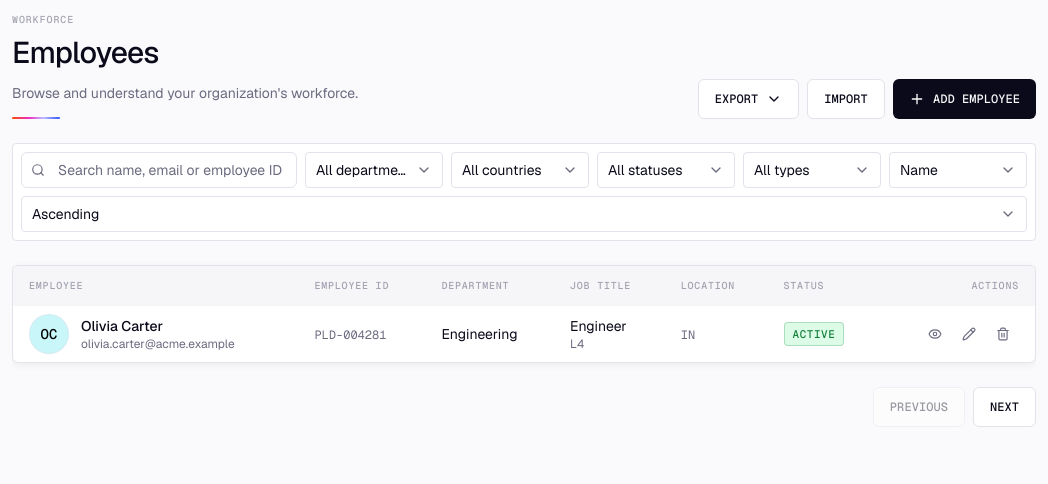
it: employee directory › resets pagination when search changes from a later page
The width and height of the screenshot is (1048, 484).
Expected: the text "Olivia Carter" is shown, x1=81 y1=317 x2=163 y2=335
Click the button "Next".
click(1004, 407)  # box x1=973 y1=387 x2=1036 y2=427
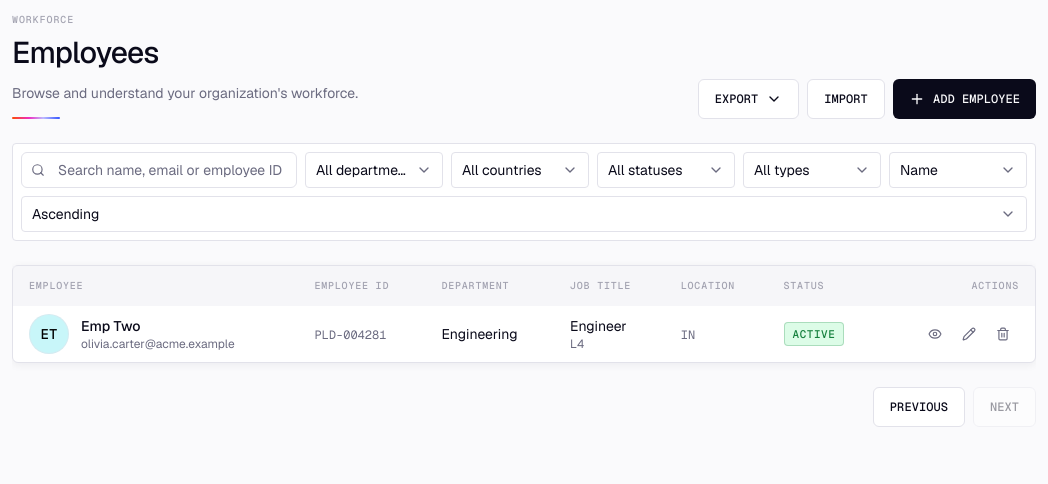
Now the text "Emp Two" is shown, box x1=81 y1=317 x2=140 y2=335
Now the button "Previous" is enabled, box x1=873 y1=387 x2=965 y2=427
Type "olivia" into the field with placeholder "Search name, email or employee ID".
click(159, 170); type("olivia")  # box x1=21 y1=152 x2=297 y2=188
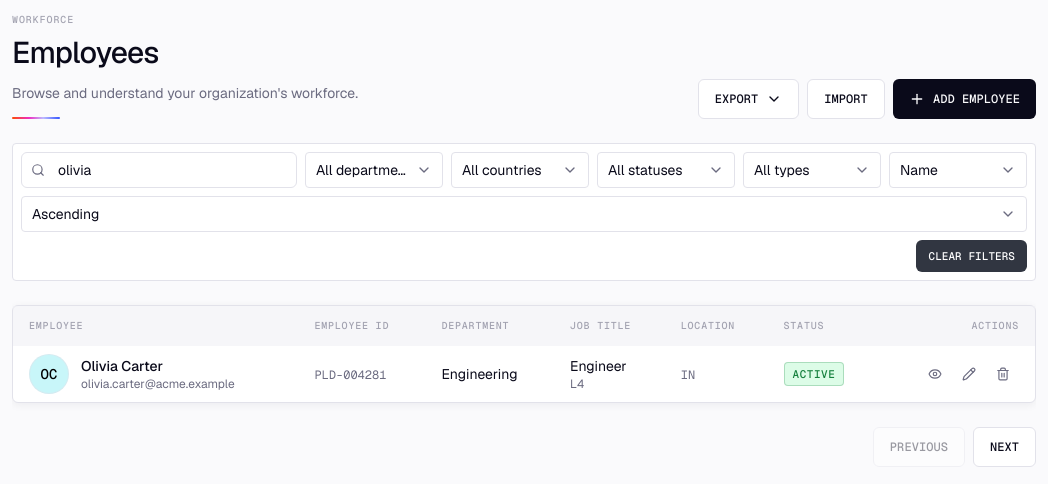
Now the button "Previous" is disabled, box x1=873 y1=427 x2=965 y2=467
